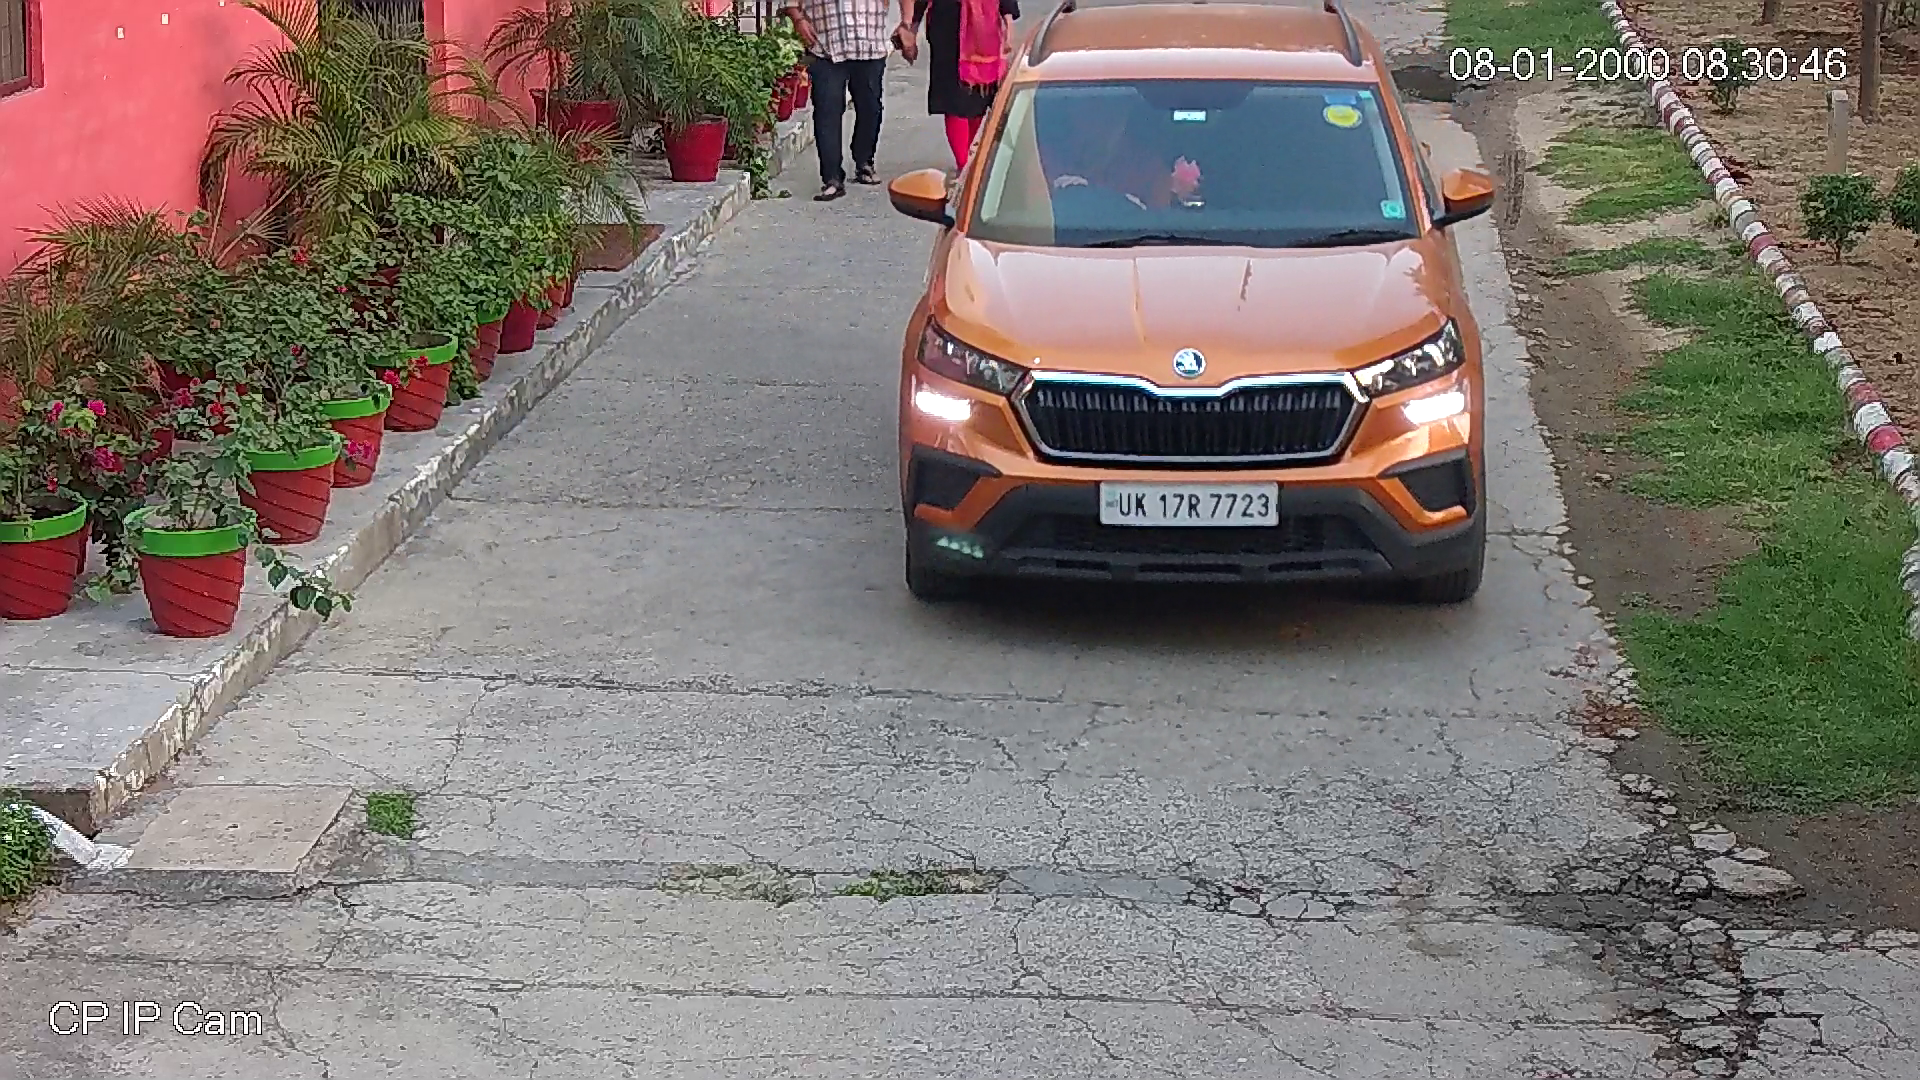plate: (1089, 474, 1287, 530)
